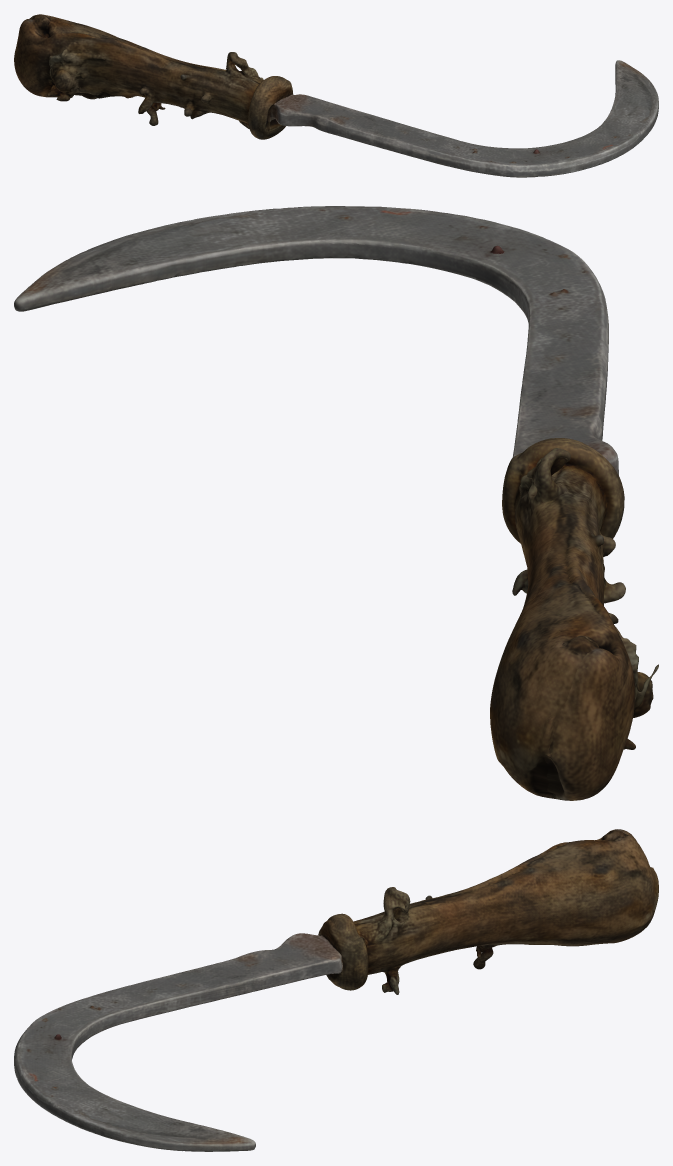
The model's file is poludnitsa_sickle.glb.
3 views of the same model, one above another, from view 1: azimuth 30°, elevation 25°; view 2: azimuth 150°, elevation 25°; view 3: azimuth 270°, elevation 25° (orthographic). The views are drawn at different scales.
Bounding box in the file's own units: 1 × 0.1832 × 1.
1 material, 1 textured.
